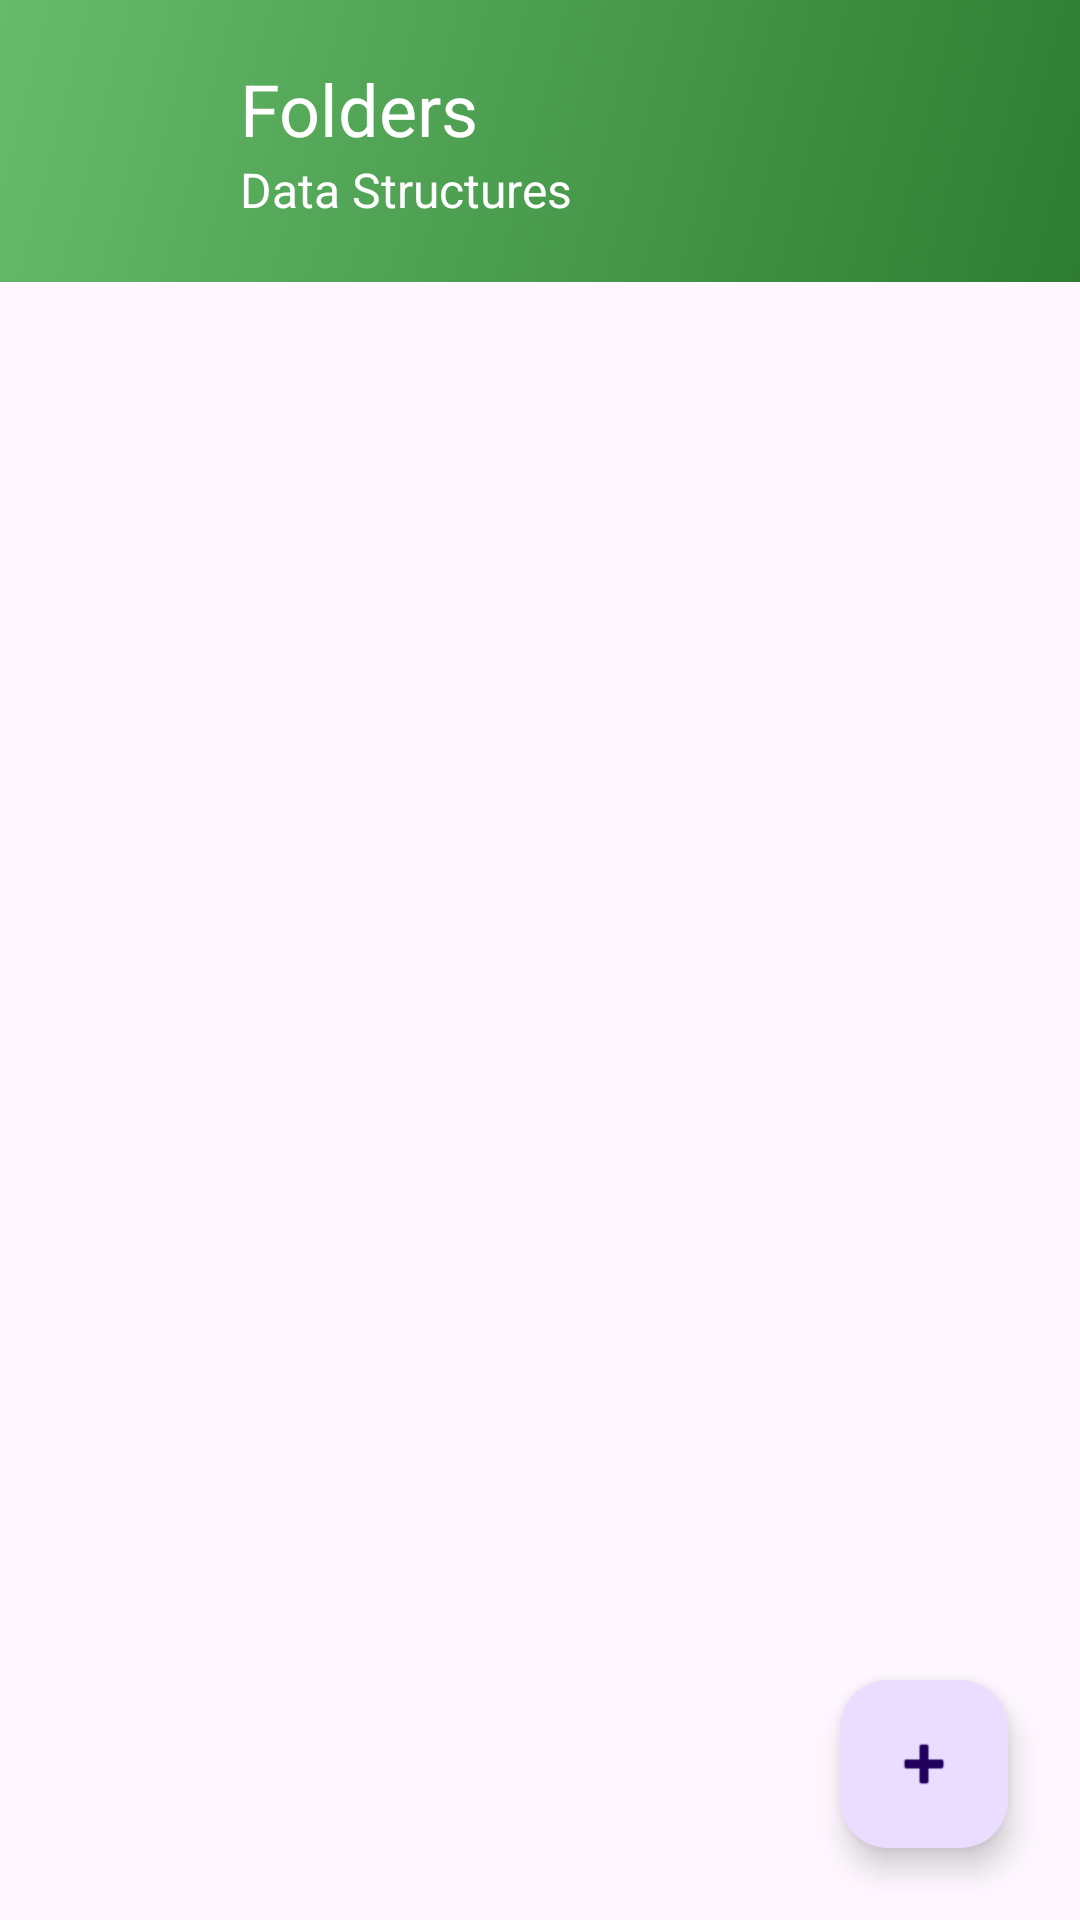

Icons on this 1080px×1920px Android screen, each with its box as (x1,y1,x2,y2):
Add Image: (840,1680,1008,1848)
